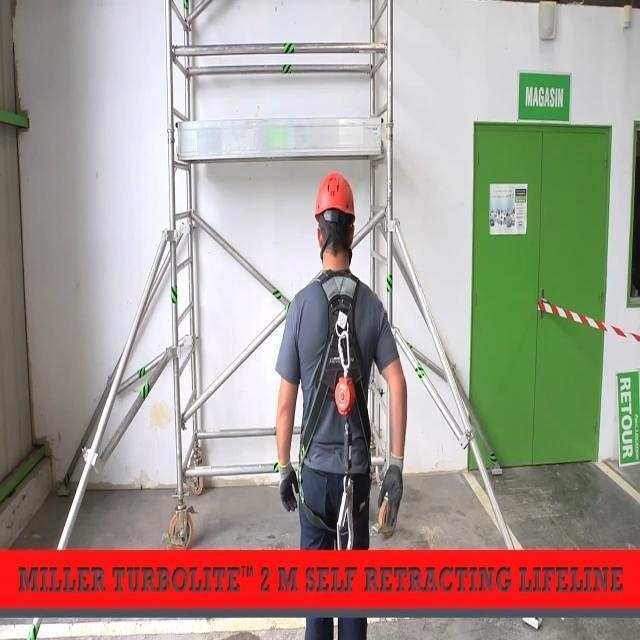Arnes_seguridad: (298, 269, 375, 546)
